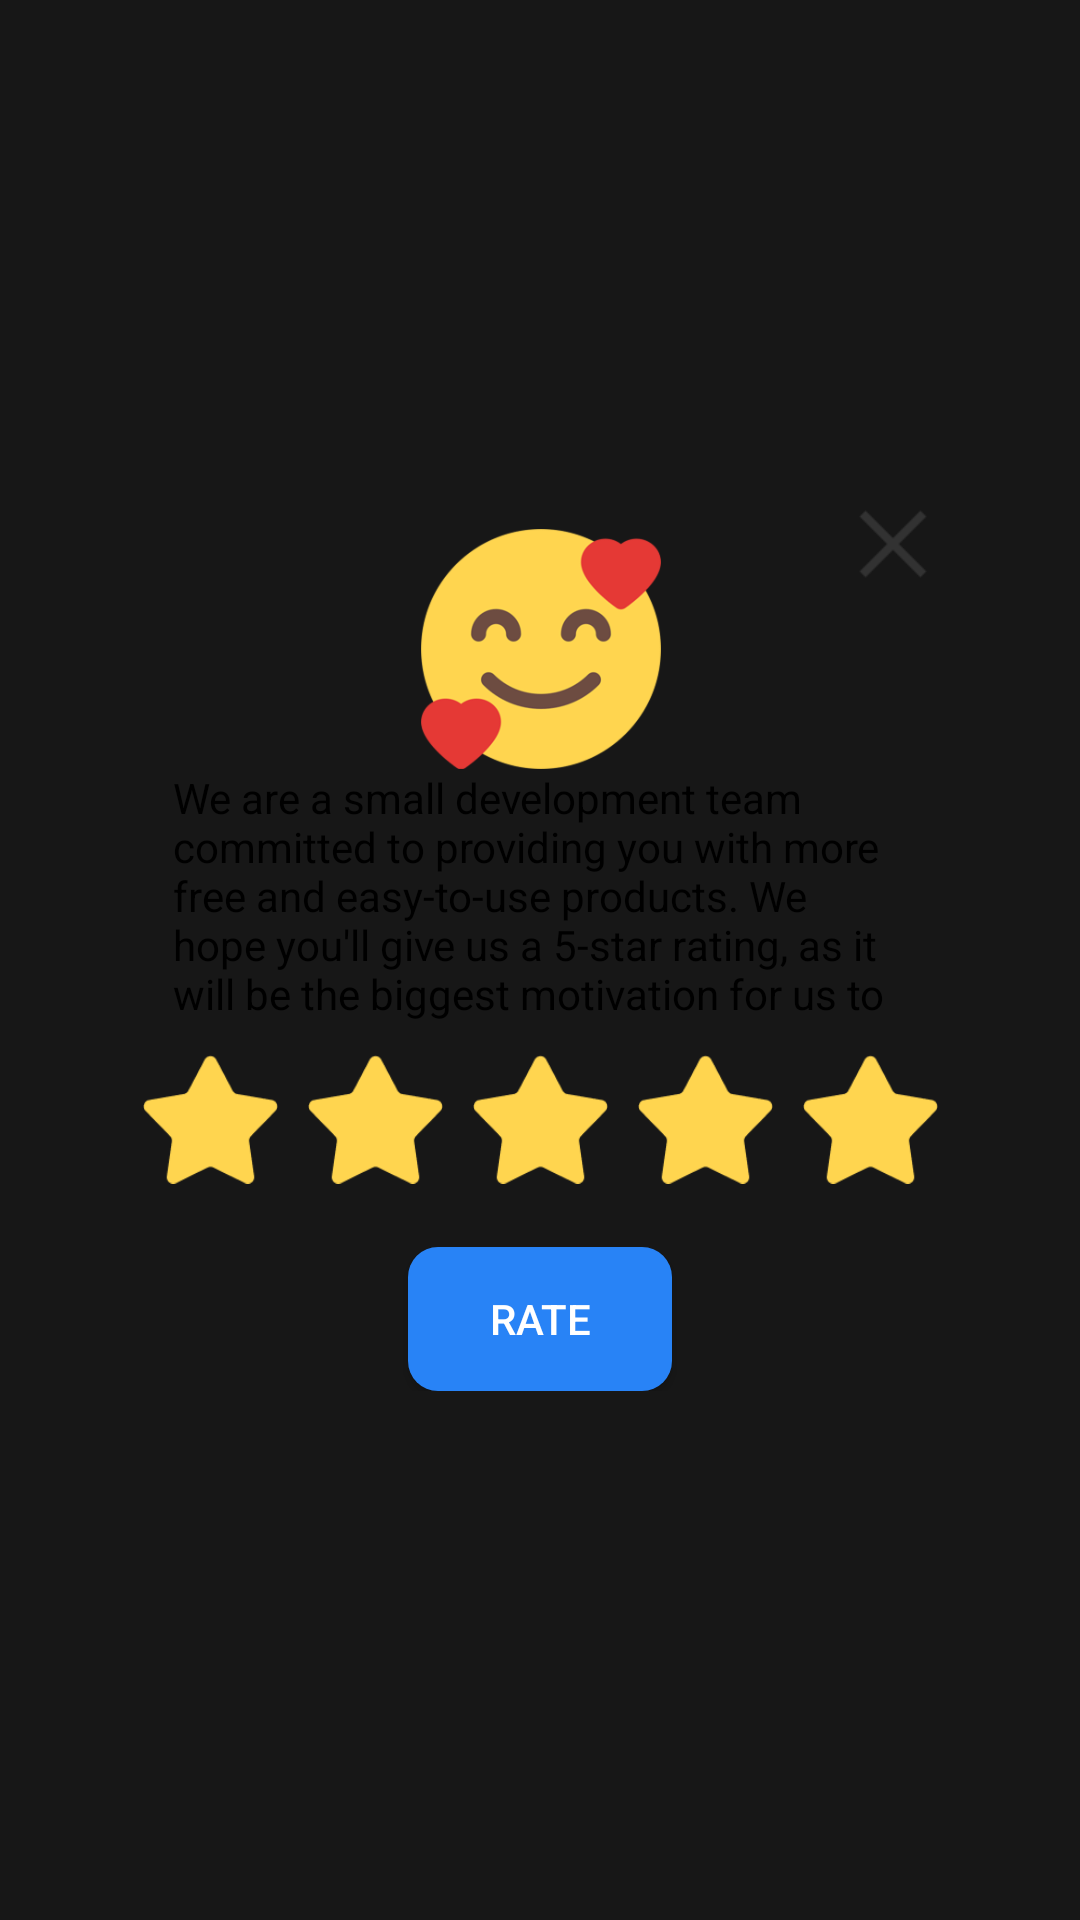

Locate icon controls on the screen. Image size 1080px×1920px, boxes as (left=x1, top=y1, right=x2, bottom=y2).
close: (left=861, top=512, right=925, bottom=576)
